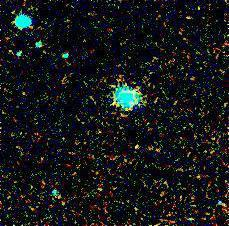star: (120, 133, 150, 163)
